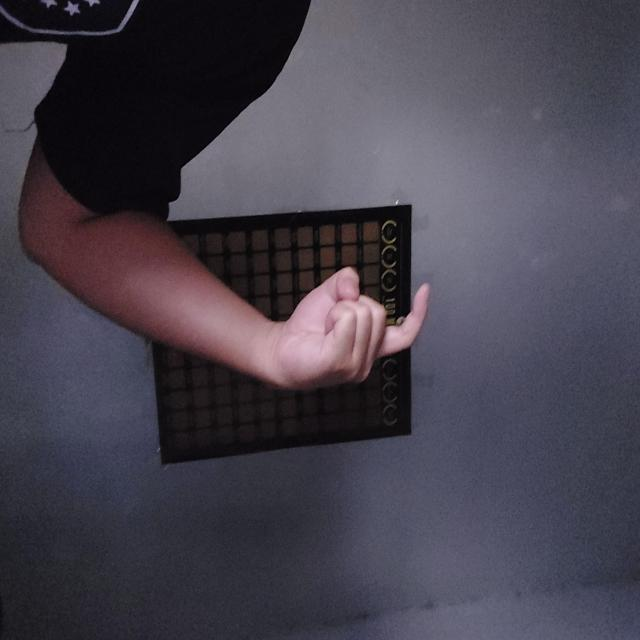X: (266, 208, 391, 363)
